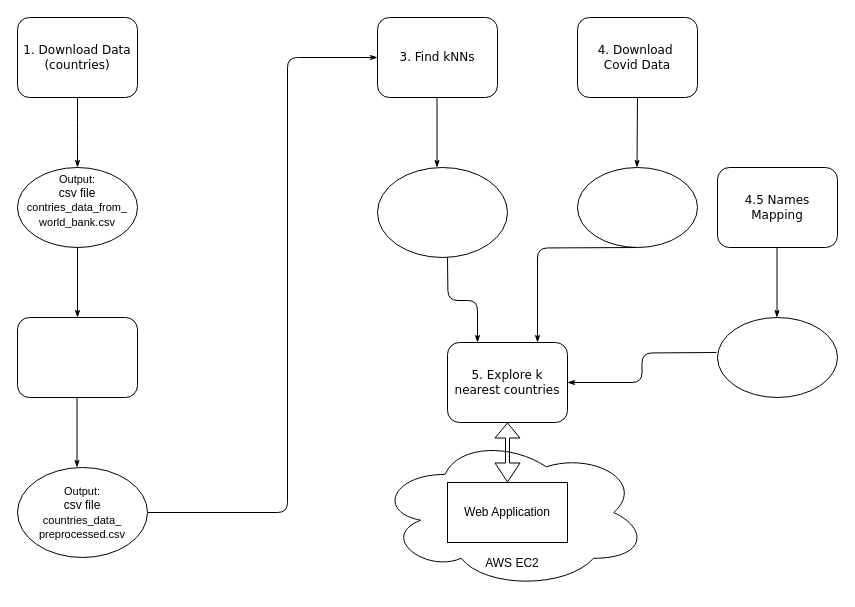
This 855x607 diagram has some shape labels left out. The shapes that lost their labels are listed below. From the top down, each one's box as (x1, y1, x2, y2) in pixels, then its label:
(376, 166, 508, 258): Output: csv file nearest_countries.csv
(576, 166, 698, 248): Output: csv file covid_data.csv
(16, 316, 138, 398): 2. Data Preprocessing
(716, 316, 838, 398): Output: json countries_mapping .json
